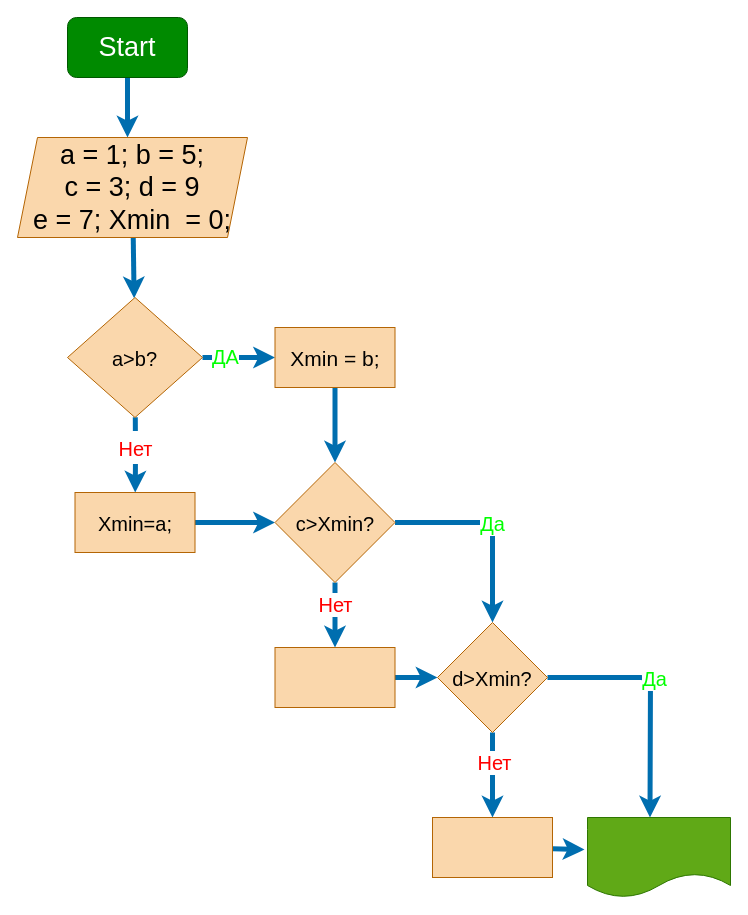
Some shapes in this 748 by 915 pixel diagram are drawn without their labels. The shapes that lost their labels are listed below. From the top down, each one's centre as x and y in pixels, then its label:
At (x=334, y=677): "Xmin=c;".
At (x=492, y=847): "Xmin=d;".
At (x=658, y=857): "Минимальное число: Xmin".
